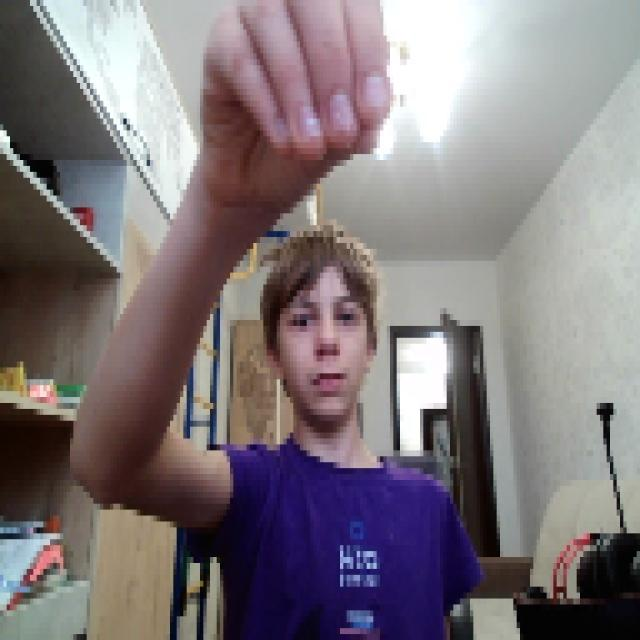left_click: (196, 0, 390, 207)
